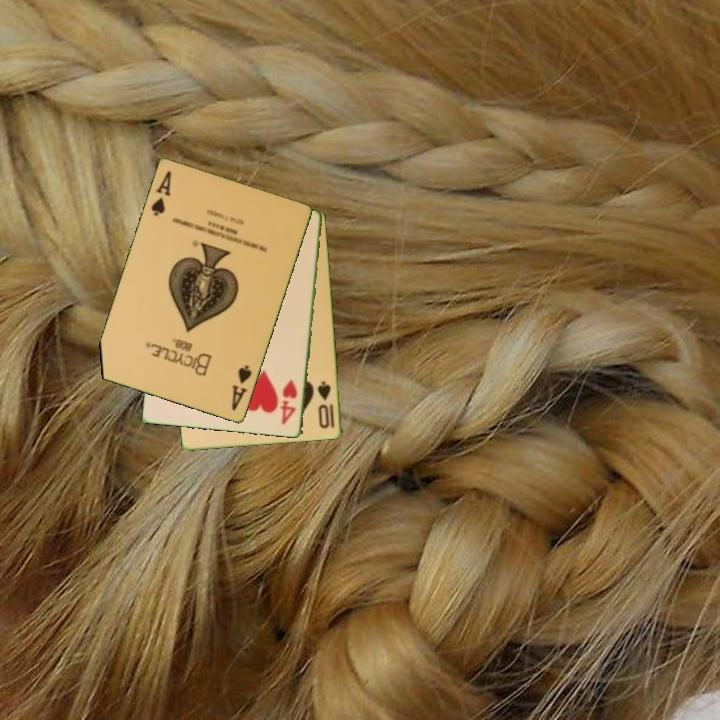10s: (314, 378, 337, 432)
4h: (278, 376, 300, 428)
As: (228, 362, 255, 414), (148, 168, 174, 219)
